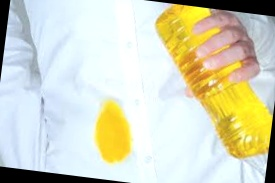mustard: (91, 95, 141, 168)
